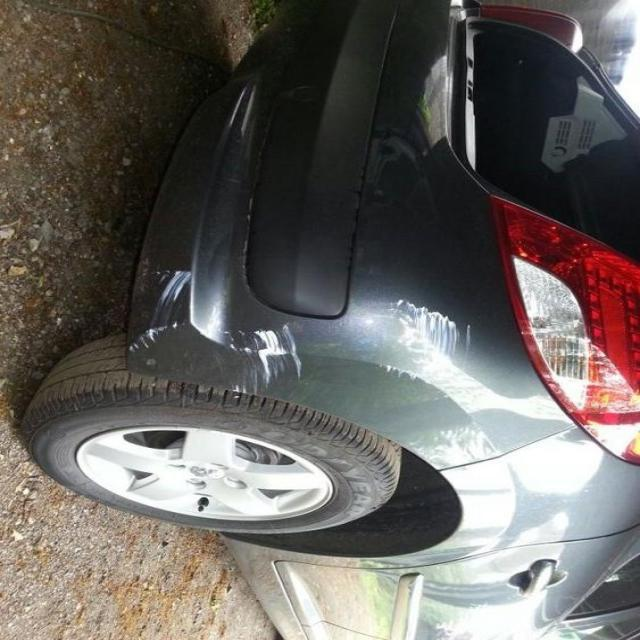scratch: (125, 256, 305, 412), (378, 286, 475, 400)
